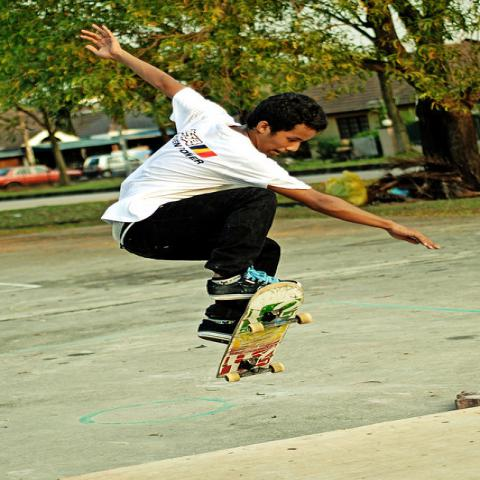car: (1, 164, 80, 185), (82, 154, 143, 179)
